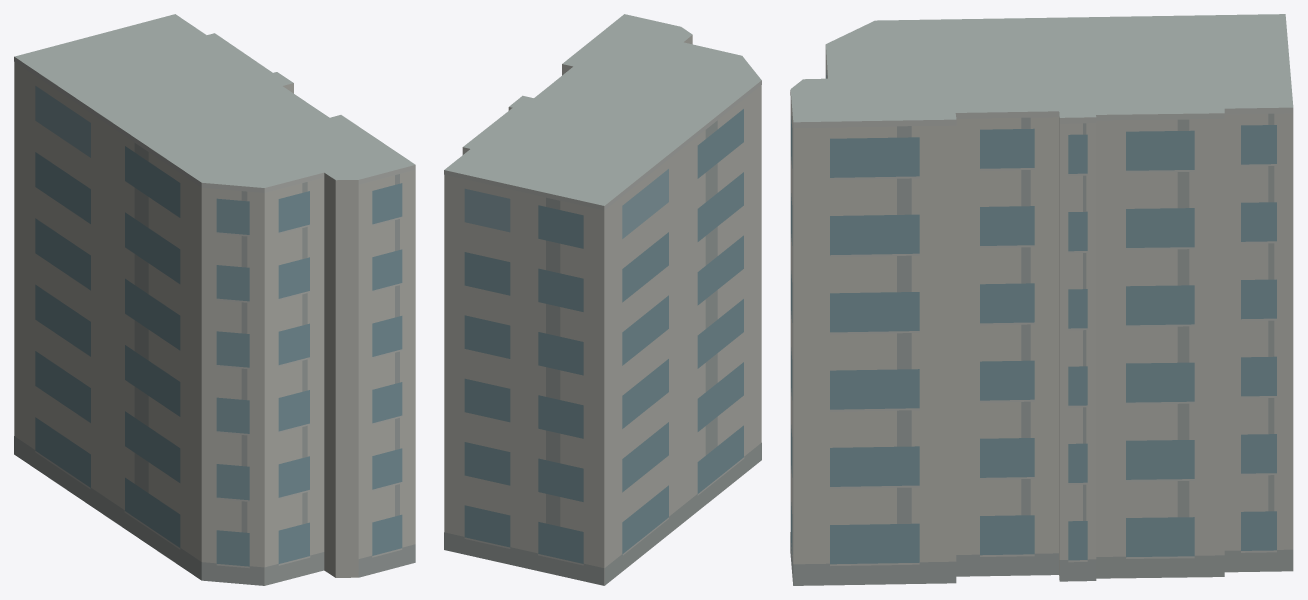
File: survey-upis-32890227.glb
3 renders of one model, left to right at view 1: azimuth 30°, elevation 25°; view 2: azimuth 150°, elevation 25°; view 3: azimuth 270°, elevation 25°, orthographic. The views are drawn at different scales.
Parts seen in each view (by area): view 1: survey-upis-32890227.tmp; view 2: survey-upis-32890227.tmp; view 3: survey-upis-32890227.tmp.
Boxes of the visible parts, box(x1,y1,x2,y2) form: survey-upis-32890227.tmp: box(14, 14, 415, 585); survey-upis-32890227.tmp: box(444, 14, 761, 585); survey-upis-32890227.tmp: box(790, 14, 1293, 585).
Size of the model in its own units: 9.82 by 19.6 by 19.28.
